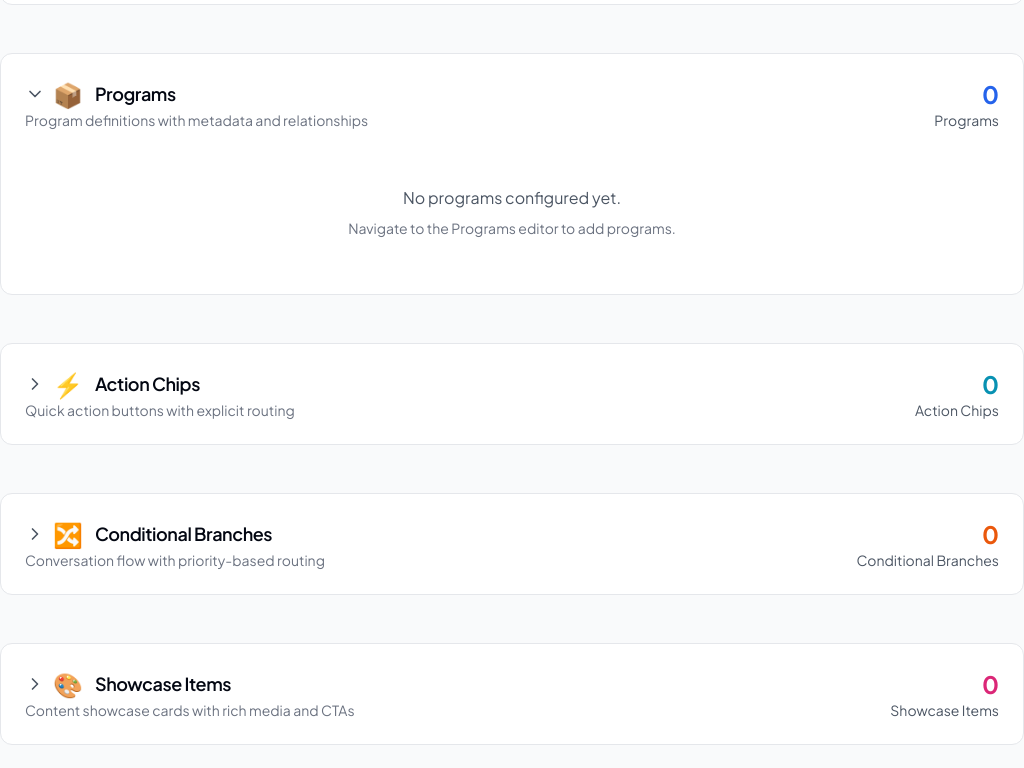
Test case: ConversationFlowDiagram › Empty States › should show empty state for action chips when none exist
Expand Action Chips section using heading
Click the button named "Expand section" at point(54, 384), box [25,368,83,400]
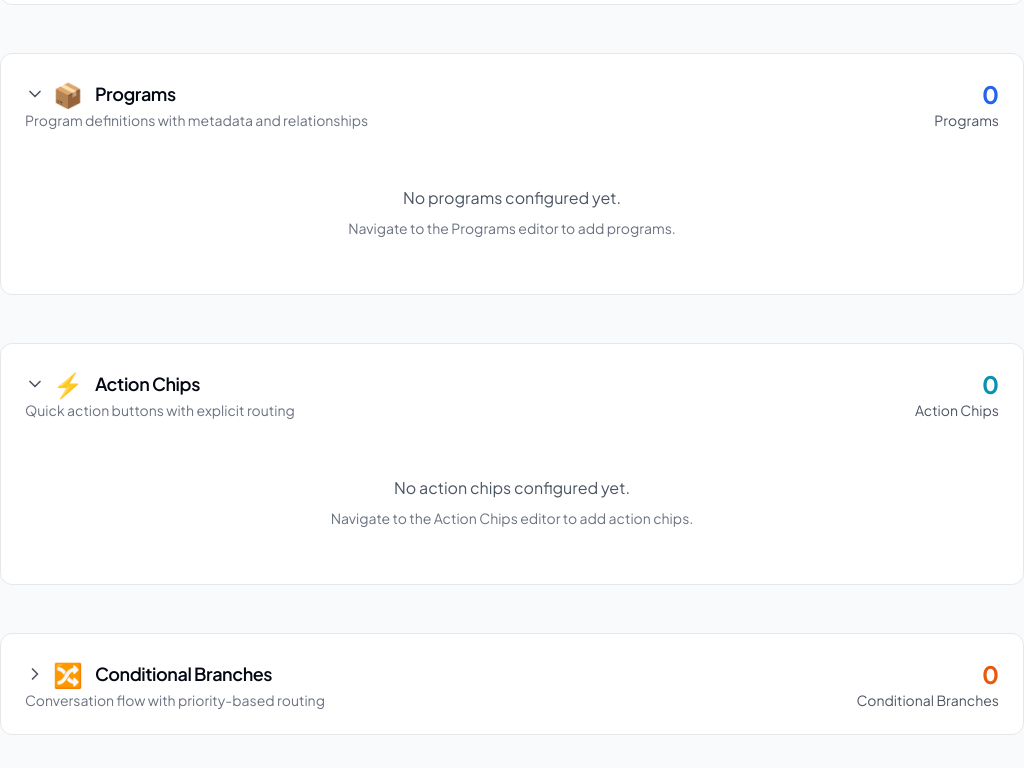
Check: the text "No action chips configured yet." is shown, box [394,477,630,498]
